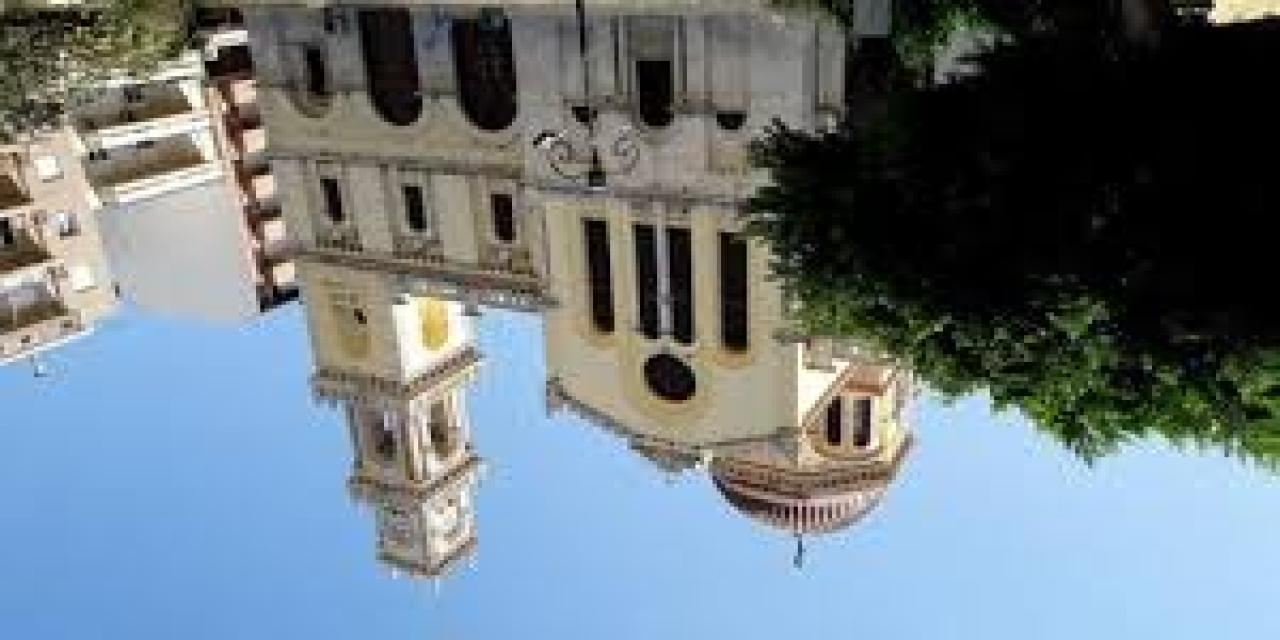Agios Minas: (252, 1, 932, 640)
